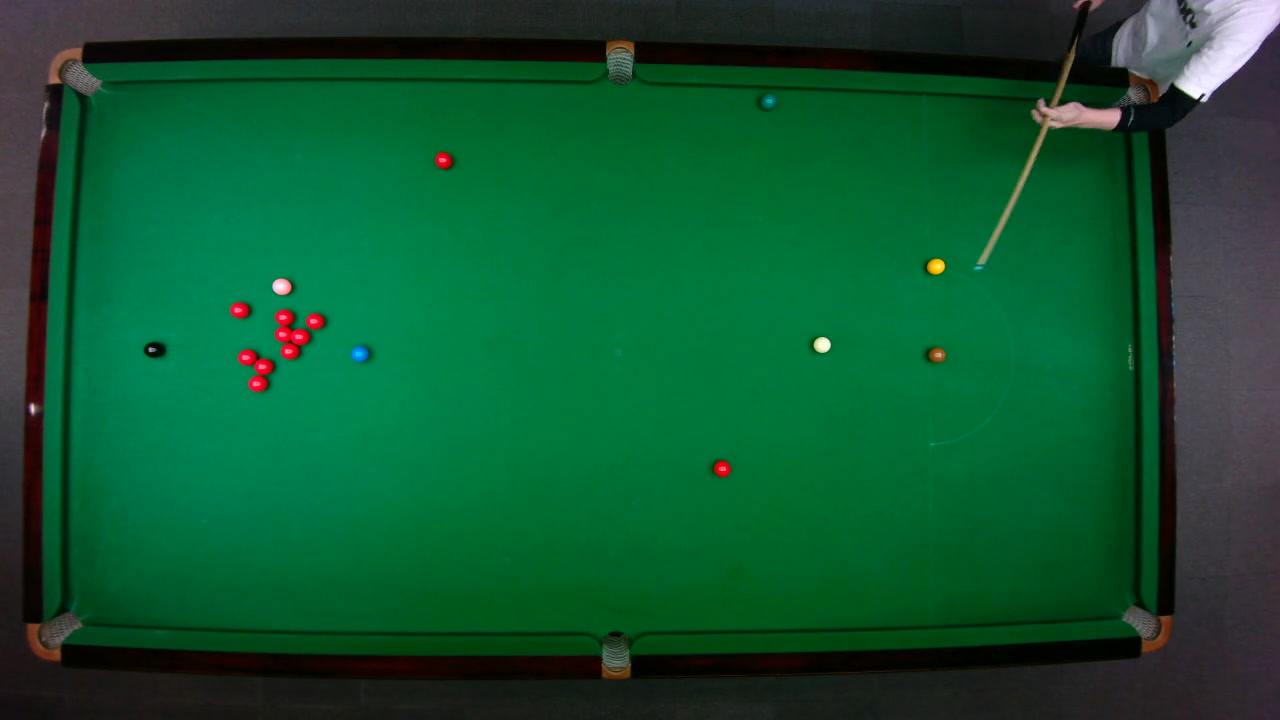bag: (25, 609, 83, 661), (46, 46, 102, 96), (1119, 603, 1172, 652), (1114, 73, 1159, 110), (600, 629, 630, 680), (605, 38, 633, 85)
black: (142, 340, 163, 357)
blue: (350, 344, 369, 362)
brown: (926, 346, 946, 362)
cue: (972, 1, 1091, 276)
green: (758, 92, 776, 110)
pink: (270, 276, 292, 295)
red: (287, 326, 310, 345), (252, 356, 274, 375), (235, 347, 257, 366), (273, 307, 294, 326), (246, 374, 268, 392), (228, 300, 250, 318), (433, 150, 453, 169), (304, 311, 324, 329), (712, 459, 731, 477), (279, 342, 299, 359), (273, 325, 292, 342)
white: (811, 335, 831, 353)
yellow: (925, 257, 945, 274)
zone: (927, 264, 1014, 445)
